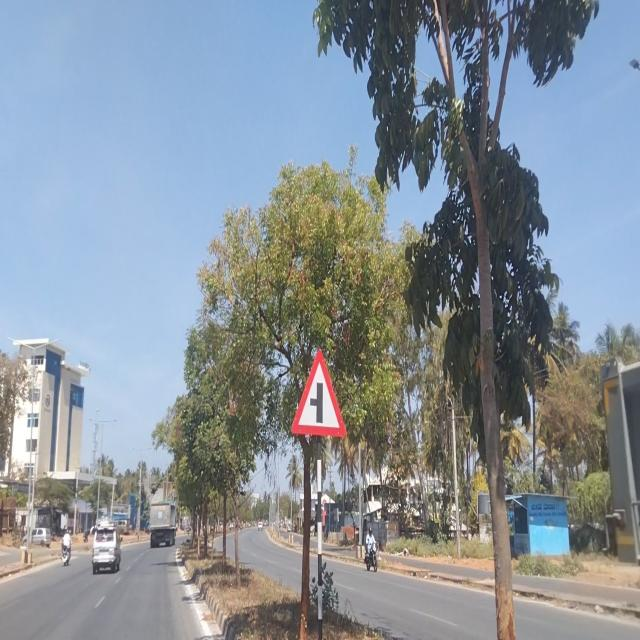bien_cam: (290, 346, 347, 441)
